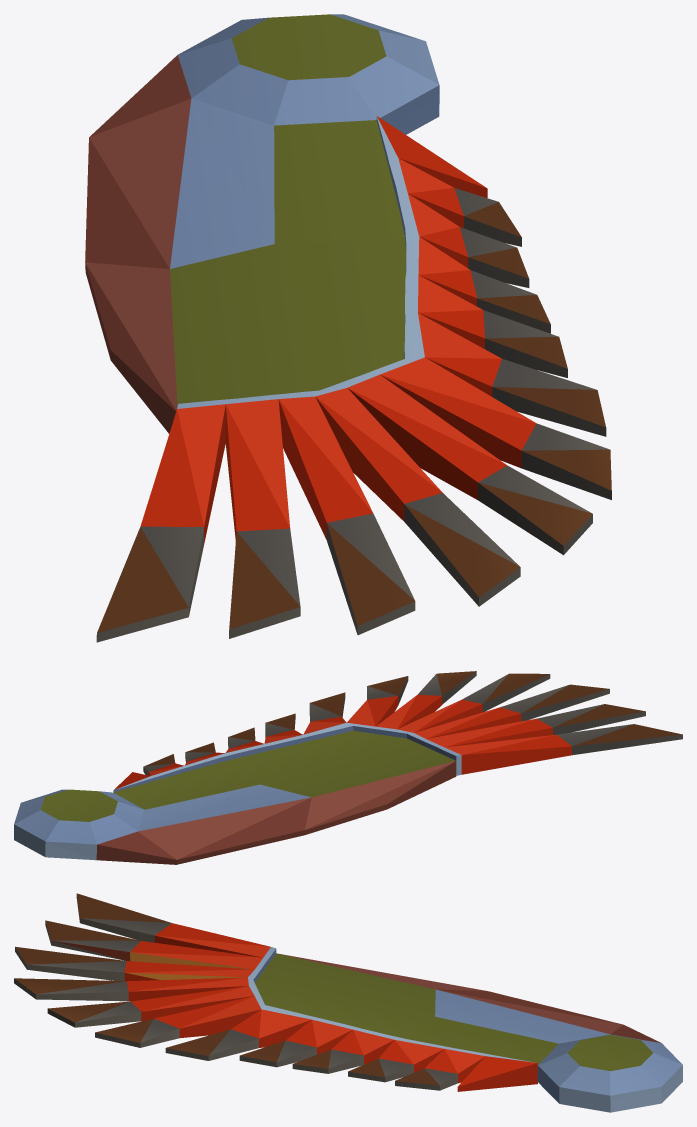
File: Gauntlet_LeftWing2.fbx
The picture shows the model from 3 angles, top to bottom: view 1: azimuth 30°, elevation 25°; view 2: azimuth 150°, elevation 25°; view 3: azimuth 270°, elevation 25°; orthographic projection. The views are drawn at different scales.
Visible parts, largest first — view 1: Gauntlet_LeftWing; view 2: Gauntlet_LeftWing; view 3: Gauntlet_LeftWing.
Boxes of the visible parts, x1,y1,x2,y2 form: Gauntlet_LeftWing: (85,14,611,642); Gauntlet_LeftWing: (14,671,682,864); Gauntlet_LeftWing: (14,893,682,1112).
Bounding box in the file's own units: 2.26 × 0.1752 × 2.96.
